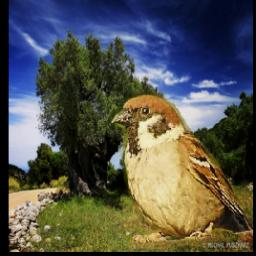Sparrow: (108, 92, 253, 249)
